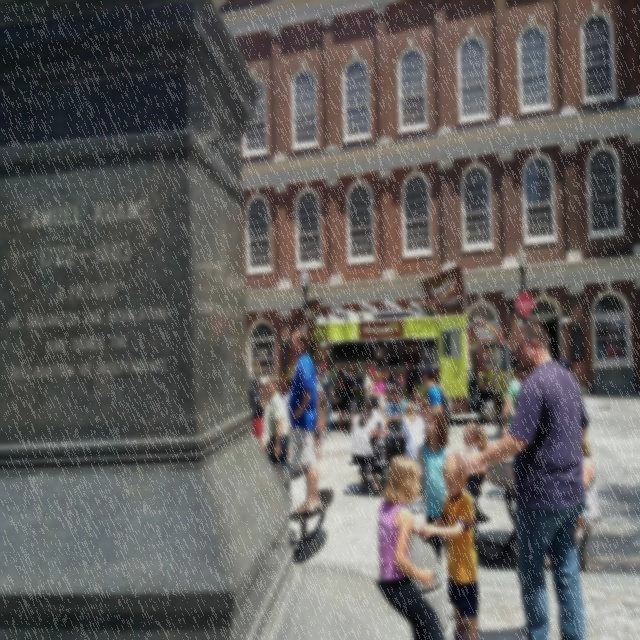pessoa: (452, 320, 592, 640), (376, 453, 447, 640), (418, 450, 480, 640), (416, 404, 462, 568), (288, 323, 322, 516), (574, 438, 604, 552), (350, 399, 382, 491), (264, 374, 290, 467), (500, 358, 530, 438), (386, 386, 410, 460), (400, 400, 426, 460), (319, 363, 337, 437), (252, 376, 269, 449), (417, 363, 443, 408), (557, 356, 581, 402), (342, 365, 358, 433), (315, 366, 328, 438), (283, 375, 294, 460), (314, 372, 324, 460), (463, 421, 489, 454), (384, 367, 408, 402), (334, 370, 347, 432), (369, 396, 386, 440), (247, 368, 259, 421), (367, 370, 386, 400), (510, 356, 530, 384), (406, 359, 418, 403), (363, 366, 375, 401), (604, 338, 624, 358), (368, 368, 381, 398), (416, 396, 429, 418), (316, 362, 330, 376), (382, 370, 390, 390), (396, 366, 404, 386), (411, 390, 421, 402), (277, 386, 283, 398)
